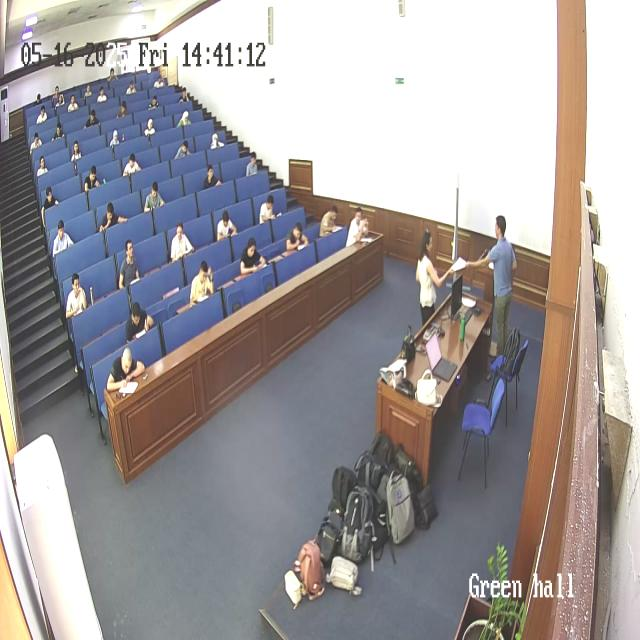person: (467, 215, 517, 360), (416, 230, 458, 326), (106, 346, 146, 392), (126, 298, 156, 340), (119, 238, 141, 289), (239, 236, 267, 276), (190, 259, 214, 305), (346, 206, 372, 247), (170, 221, 194, 263), (66, 273, 88, 318), (99, 201, 128, 233), (51, 219, 74, 257), (284, 222, 309, 254), (320, 202, 342, 236), (217, 208, 238, 241), (144, 180, 165, 213), (43, 185, 59, 228), (259, 193, 281, 224), (84, 164, 104, 193), (202, 164, 222, 191), (122, 151, 142, 177), (174, 139, 192, 160), (245, 152, 260, 177), (110, 127, 124, 152), (70, 138, 83, 164), (36, 154, 50, 178), (29, 130, 43, 154), (84, 108, 100, 129), (52, 84, 66, 108), (143, 116, 157, 138), (51, 119, 65, 141), (66, 92, 80, 113), (208, 132, 224, 150), (178, 109, 192, 128), (116, 101, 130, 120), (36, 104, 48, 124), (96, 86, 108, 103), (178, 84, 189, 102), (148, 95, 160, 111), (126, 81, 138, 96), (83, 82, 94, 98), (106, 68, 117, 84), (153, 76, 165, 90), (142, 62, 153, 76), (34, 92, 44, 106)
